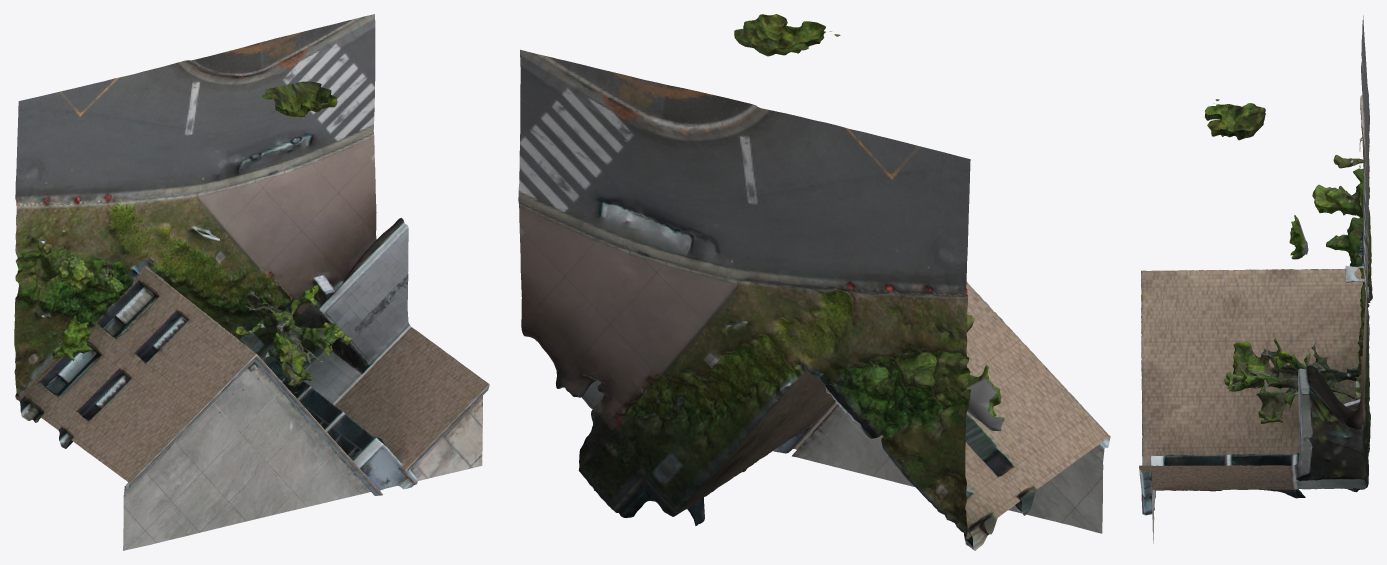
The model's file is Tile_+008_+009.fbx.
The picture shows the model from 3 angles, left to right: view 1: azimuth 30°, elevation 25°; view 2: azimuth 150°, elevation 25°; view 3: azimuth 270°, elevation 25°; orthographic projection. The views are drawn at different scales.
Visible parts, largest first — view 1: DefaultName; view 2: DefaultName; view 3: DefaultName.
Part boxes in pixels (bbox=[...]): DefaultName: bbox=[14, 14, 489, 550]; DefaultName: bbox=[518, 14, 1110, 550]; DefaultName: bbox=[1139, 15, 1372, 543].
Size of the model in its own units: 22.54 by 22.54 by 13.05.
